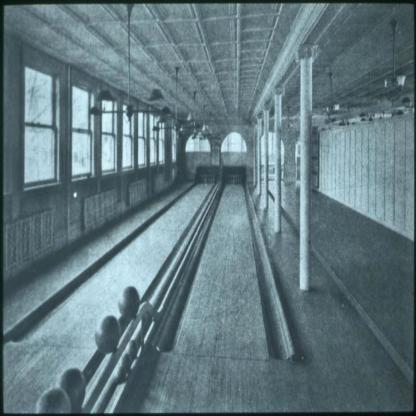Ball: (60, 368, 86, 413), (94, 312, 119, 354), (37, 385, 69, 414), (118, 285, 139, 318)
